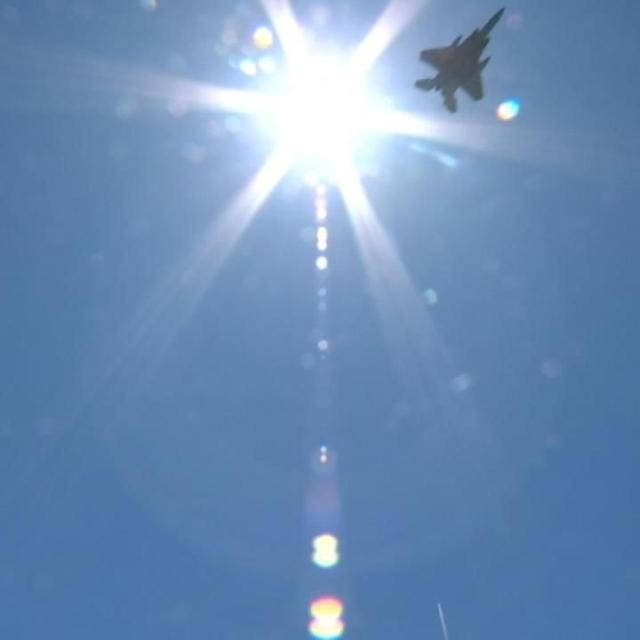MIL_Plane: (414, 9, 507, 116)
